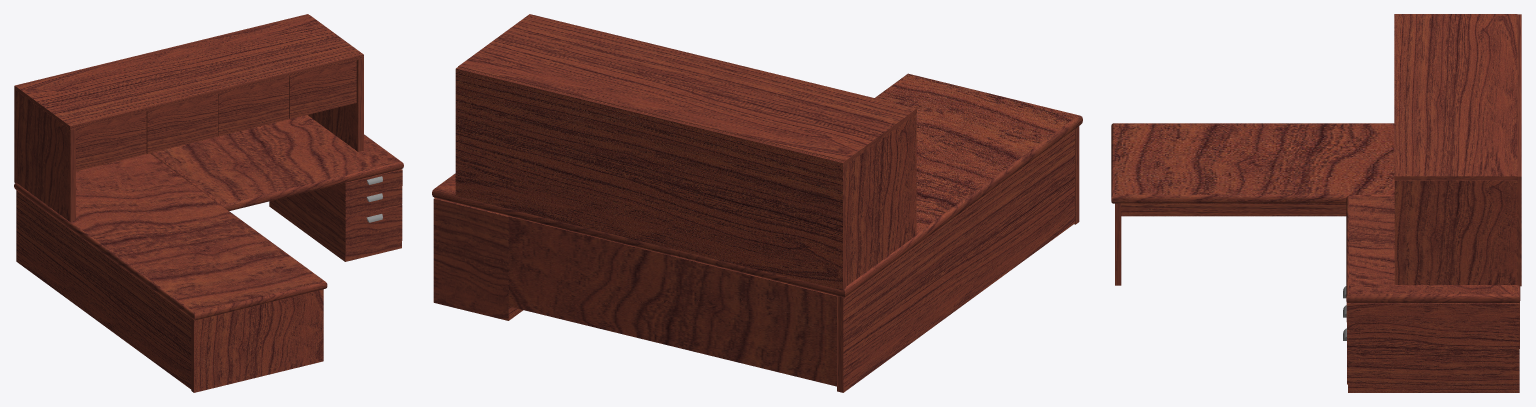
File: Inter_Office_Desk.fbx
The picture shows the model from 3 angles, left to right: view 1: azimuth 30°, elevation 25°; view 2: azimuth 150°, elevation 25°; view 3: azimuth 270°, elevation 25°; orthographic projection. The views are drawn at different scales.
Visible parts, largest first — view 1: Wood_Desk_Top1, Hutch_Top, Wood_Desk_Top, Desk_Siding_Front, Desk_Siding_Right, Cabinet, Hutch_Siding_Left, Hutch_Shelf_3, Hutch_Shelf_2, Hutch_Shelf_1, Hutch_Shelf_4, Hutch_Siding_Right (+1 smaller); view 2: Hutch_Siding_Back, Desk_Siding_Back, Hutch_Top, Desk_Siding_Front, Wood_Desk_Top1, Hutch_Siding_Left, Cabinet, Wood_Desk_Top; view 3: Wood_Desk_Top1, Hutch_Top, Cabinet, Hutch_Siding_Right, Wood_Desk_Top, Desk_Siding_Front, Hutch_Siding_Back, Desk_Siding_Right.
Part boxes in pixels (left/top/right/bottom): Wood_Desk_Top1: left=14, top=153, right=327, bottom=320; Hutch_Top: left=16, top=15, right=363, bottom=129; Wood_Desk_Top: left=150, top=115, right=403, bottom=210; Desk_Siding_Front: left=16, top=190, right=191, bottom=389; Desk_Siding_Right: left=191, top=289, right=323, bottom=392; Cabinet: left=269, top=169, right=402, bottom=261; Hutch_Siding_Left: left=16, top=90, right=75, bottom=222; Hutch_Shelf_3: left=218, top=76, right=289, bottom=136; Hutch_Shelf_2: left=146, top=94, right=217, bottom=153; Hutch_Shelf_1: left=76, top=111, right=146, bottom=171; Hutch_Shelf_4: left=289, top=60, right=356, bottom=118; Hutch_Siding_Right: left=308, top=58, right=363, bottom=151; Hutch_Siding_Back: left=455, top=67, right=845, bottom=290; Desk_Siding_Back: left=508, top=216, right=837, bottom=386; Hutch_Top: left=458, top=14, right=916, bottom=164; Desk_Siding_Front: left=837, top=129, right=1074, bottom=392; Wood_Desk_Top1: left=671, top=73, right=1082, bottom=297; Hutch_Siding_Left: left=845, top=114, right=916, bottom=286; Cabinet: left=433, top=198, right=523, bottom=320; Wood_Desk_Top: left=432, top=173, right=671, bottom=255; Wood_Desk_Top1: left=1111, top=123, right=1394, bottom=203; Hutch_Top: left=1394, top=14, right=1517, bottom=180; Cabinet: left=1346, top=303, right=1519, bottom=392; Hutch_Siding_Right: left=1394, top=180, right=1517, bottom=284; Wood_Desk_Top: left=1346, top=196, right=1520, bottom=302; Desk_Siding_Front: left=1121, top=203, right=1346, bottom=216; Hutch_Siding_Back: left=1517, top=14, right=1521, bottom=286; Desk_Siding_Right: left=1115, top=203, right=1121, bottom=285.
Size of the model in its own units: 1.91 by 1.06 by 1.91.
Materials: 2 (1 with a texture image).
